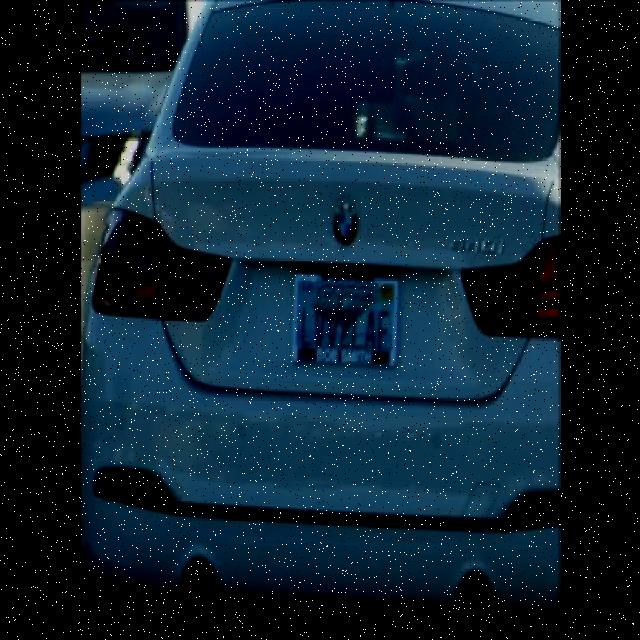licenseplate: (291, 271, 398, 372)
